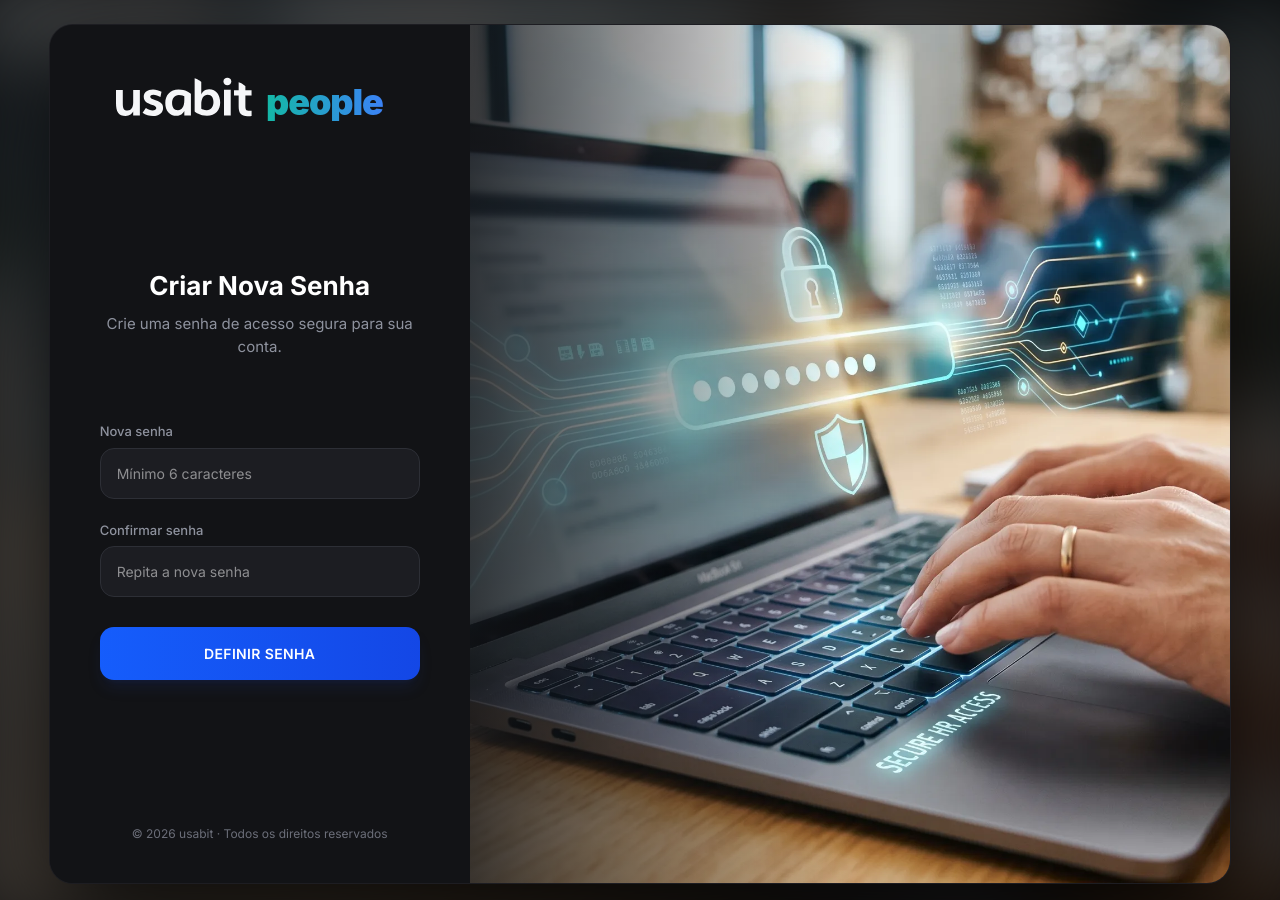
Test case: SetPassword › rejeita senha curta
Check: the heading "Criar Nova Senha" is shown, box [149, 270, 370, 301]
In the password field with placeholder "Mínimo 6 caracteres": (260, 473) [100, 448, 420, 498], type "123"
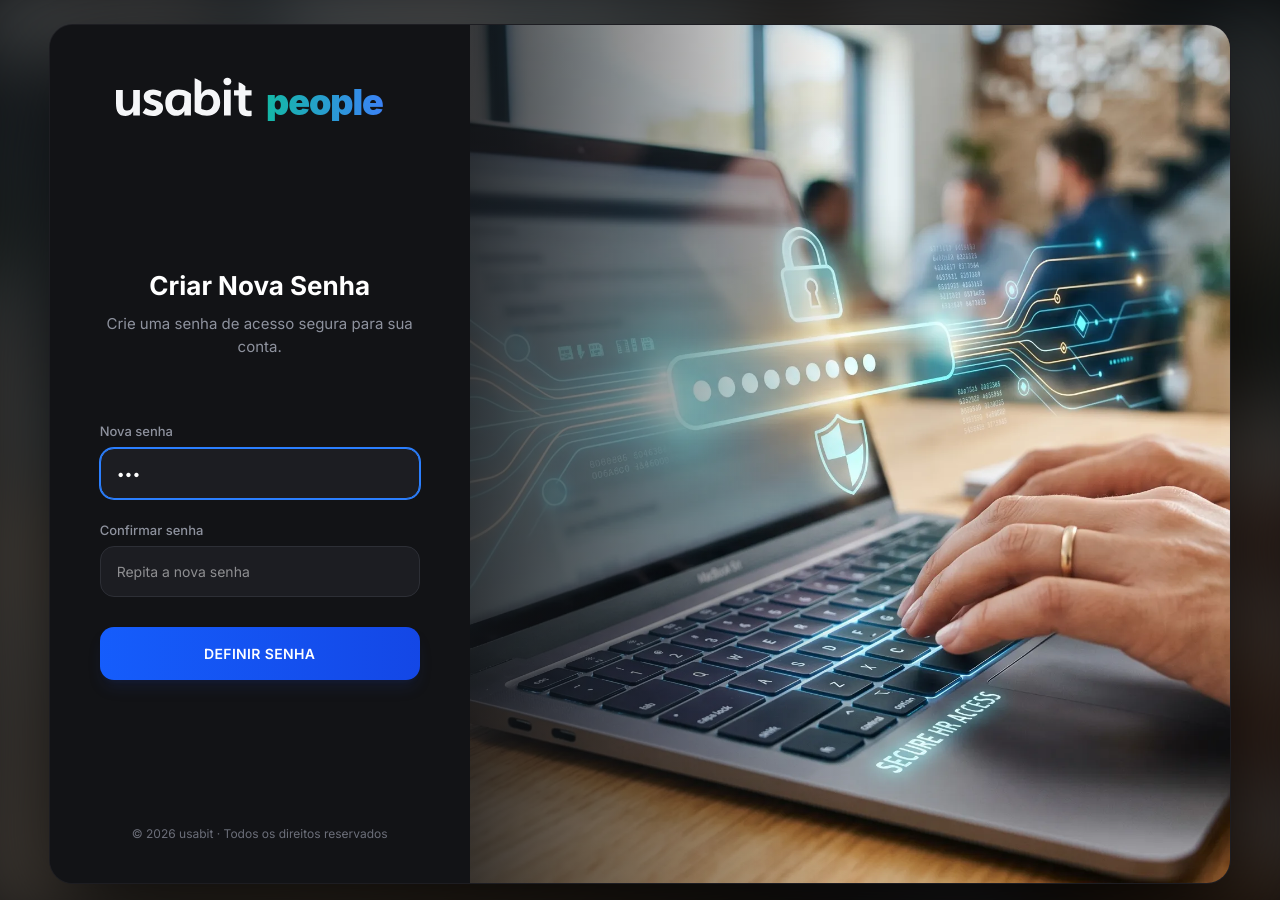
In the password field with placeholder "Repita a nova senha": (260, 572) [100, 546, 420, 597], type "123"
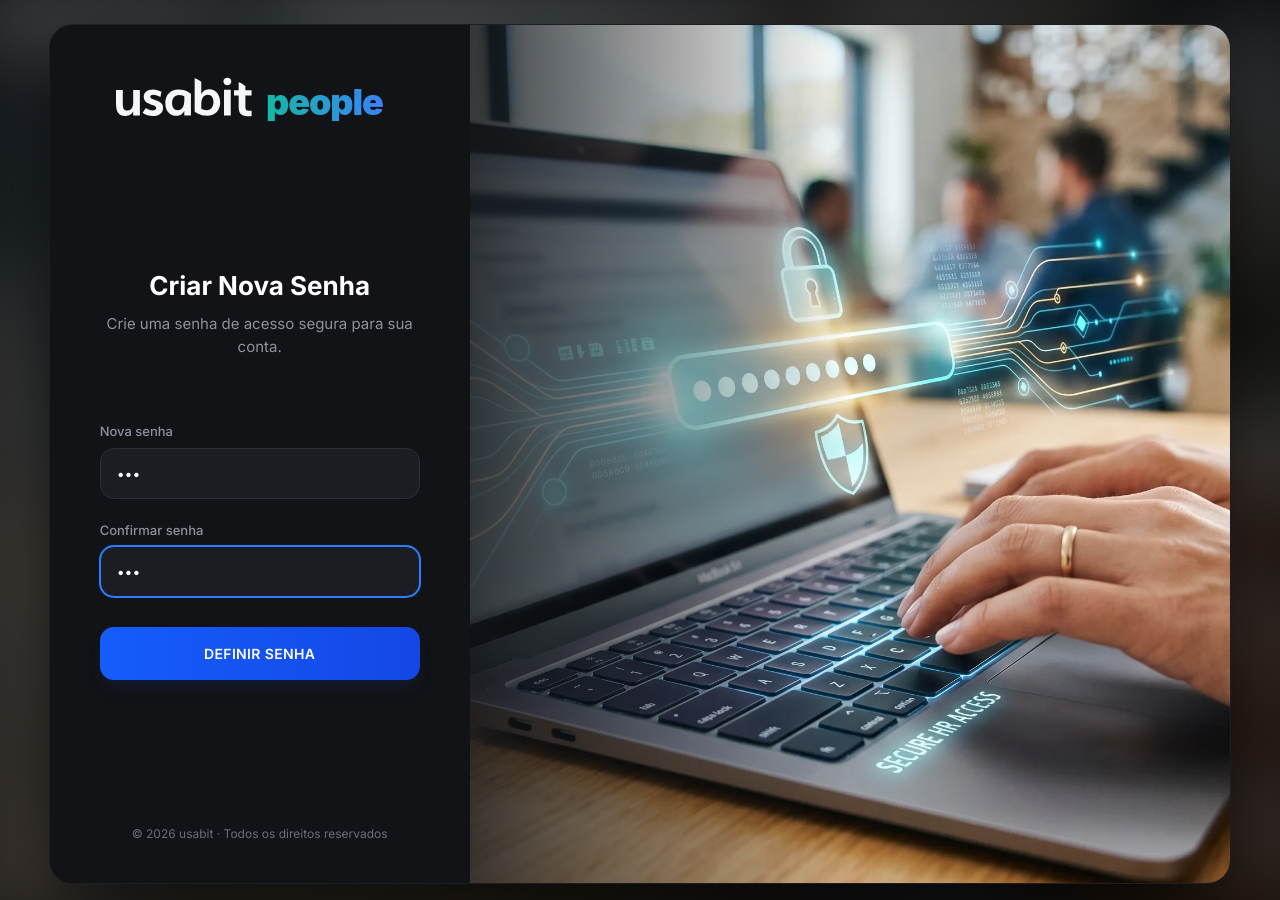
Click the button "DEFINIR SENHA": (260, 654) [100, 627, 420, 680]
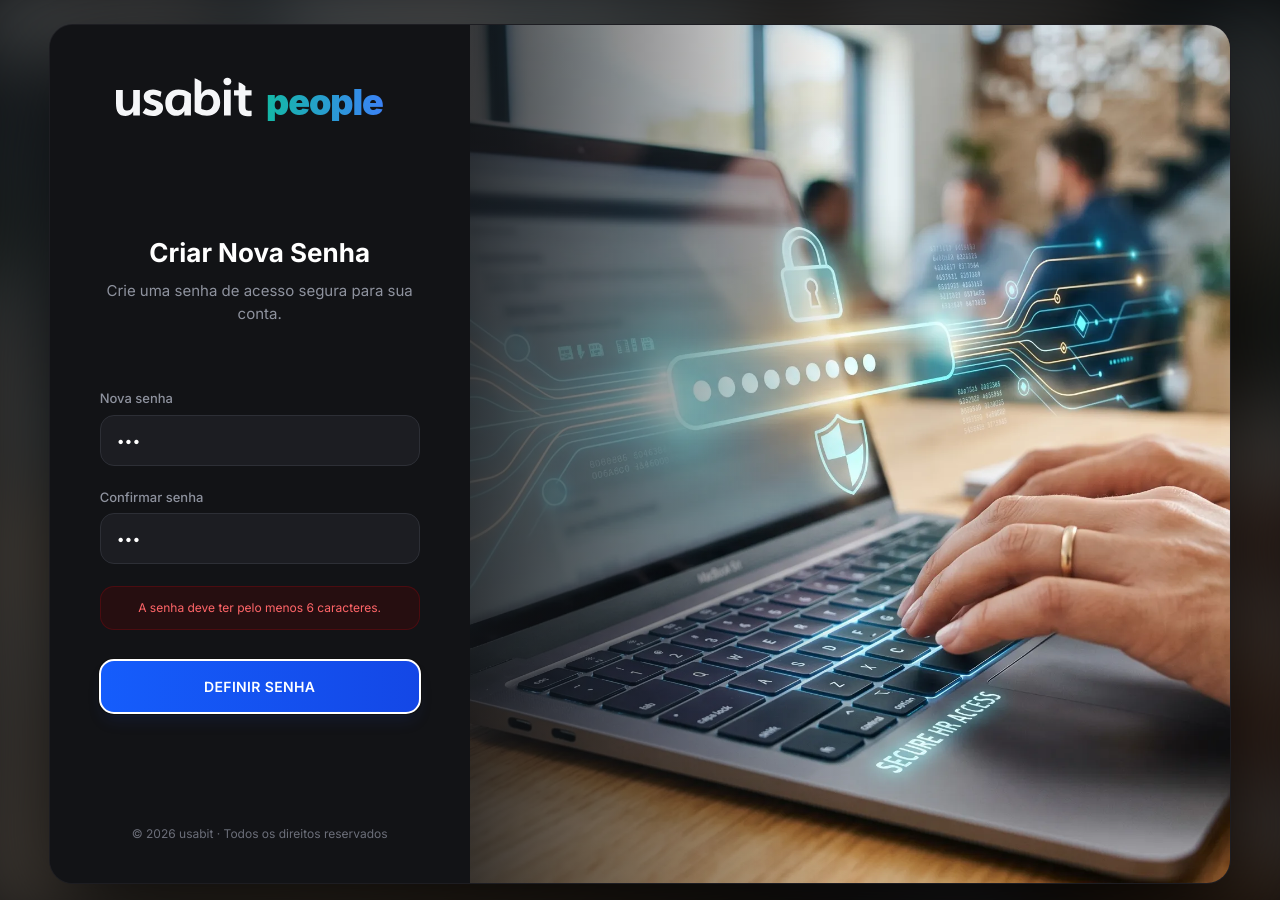
Check: the text "A senha deve ter pelo menos 6 caracteres." is shown, box [100, 586, 420, 630]
